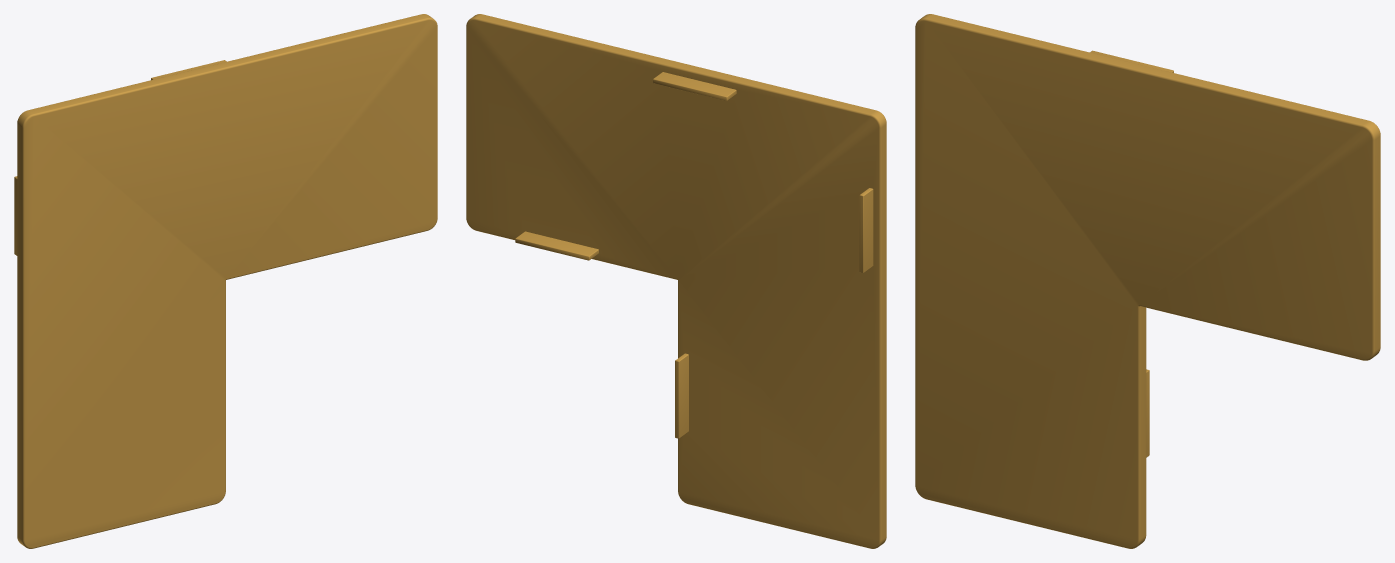
File: LHR.glb
3 renders of one model, left to right at view 1: azimuth 30°, elevation 25°; view 2: azimuth 150°, elevation 25°; view 3: azimuth 330°, elevation 25°, orthographic. The views are drawn at different scales.
Parts seen in each view (by area): view 1: LHR_Gold; view 2: LHR_Gold; view 3: LHR_Gold.
Part boxes in pixels (x1=…): LHR_Gold: x1=14, y1=14, x2=437, y2=548; LHR_Gold: x1=466, y1=14, x2=886, y2=548; LHR_Gold: x1=915, y1=14, x2=1380, y2=548.
Bounding box in the file's own units: 196 × 196 × 13.6.
